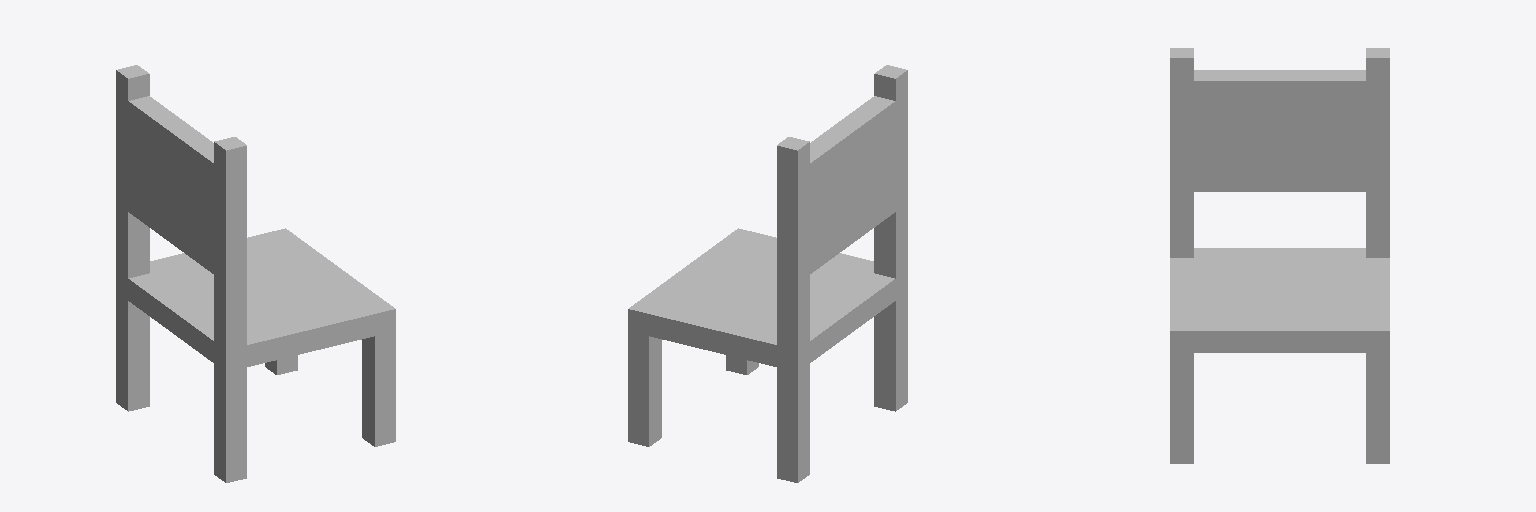
File: Chair.obj
3 renders of one model, left to right at view 1: azimuth 30°, elevation 25°; view 2: azimuth 150°, elevation 25°; view 3: azimuth 270°, elevation 25°, orthographic.
Parts seen in each view (by area): view 1: Chair; view 2: Chair; view 3: Chair.
Part boxes in pixels (x1,y1,x2,y2): Chair: (116, 65, 395, 482); Chair: (628, 65, 907, 482); Chair: (1170, 48, 1389, 463).
Bounding box in the file's own units: 8 × 15 × 9.